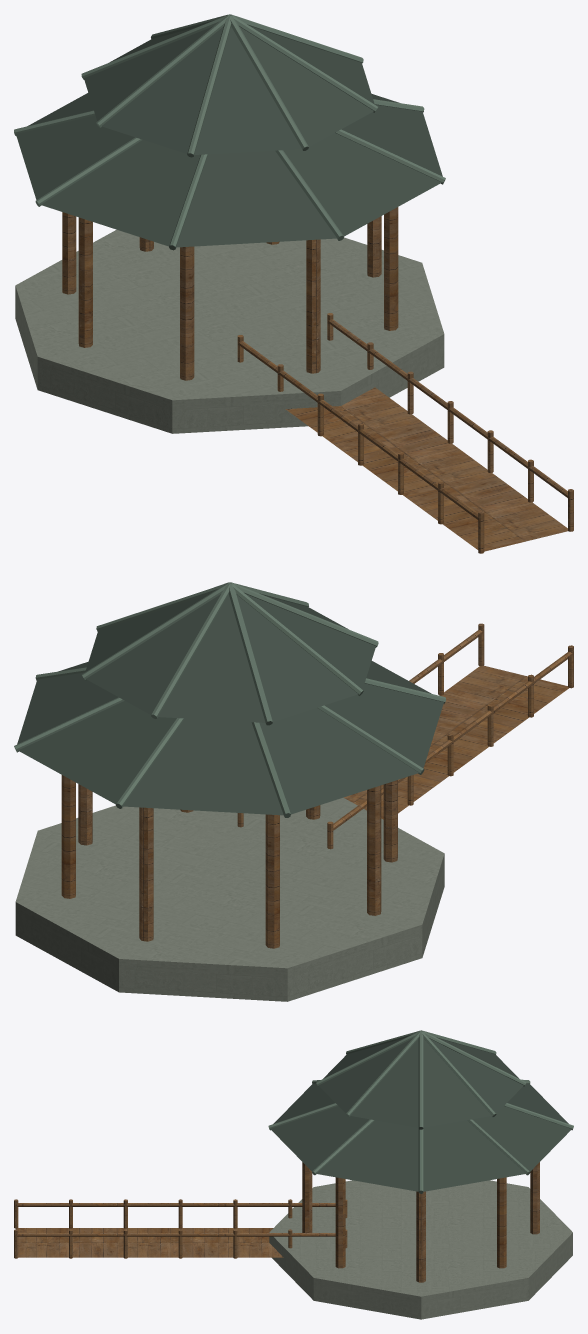
File: dicuiting.glb
The picture shows the model from 3 angles, top to bottom: view 1: azimuth 30°, elevation 25°; view 2: azimuth 150°, elevation 25°; view 3: azimuth 270°, elevation 25°; orthographic projection. The views are drawn at different scales.
Visible parts, largest first — view 1: dicuiting_roof, dicuiting_stone, dicuiting_wood, dicuiting_tile; view 2: dicuiting_stone, dicuiting_roof, dicuiting_wood, dicuiting_tile; view 3: dicuiting_stone, dicuiting_roof, dicuiting_wood, dicuiting_tile.
Boxes of the visible parts, <box> form: dicuiting_roof: <box>16,26,442,247</box>; dicuiting_stone: <box>15,229,444,433</box>; dicuiting_wood: <box>62,207,573,553</box>; dicuiting_tile: <box>14,14,445,250</box>; dicuiting_stone: <box>15,797,444,1001</box>; dicuiting_roof: <box>17,594,443,815</box>; dicuiting_wood: <box>61,623,573,948</box>; dicuiting_tile: <box>14,582,445,817</box>; dicuiting_stone: <box>269,1180,572,1319</box>; dicuiting_roof: <box>270,1038,571,1191</box>; dicuiting_wood: <box>14,1162,539,1282</box>; dicuiting_tile: <box>268,1030,573,1193</box>.
Size of the model in its own units: 12.07 by 9.79 by 22.12.
4 materials, 2 textured.
